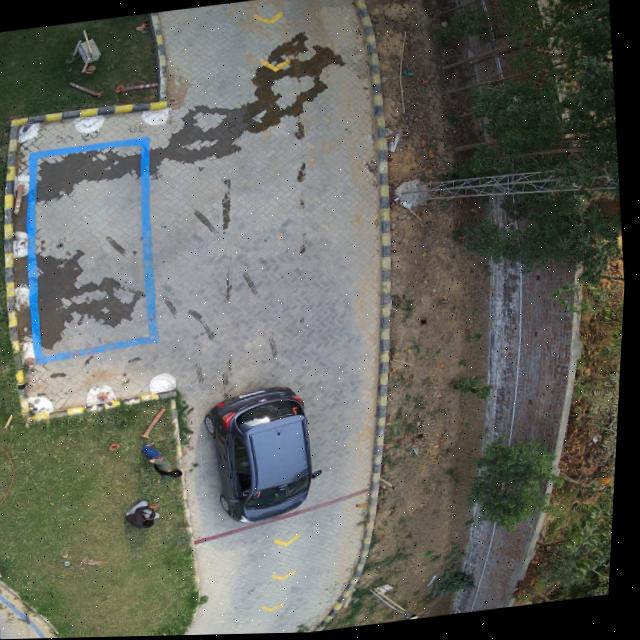car: (209, 388, 316, 524)
